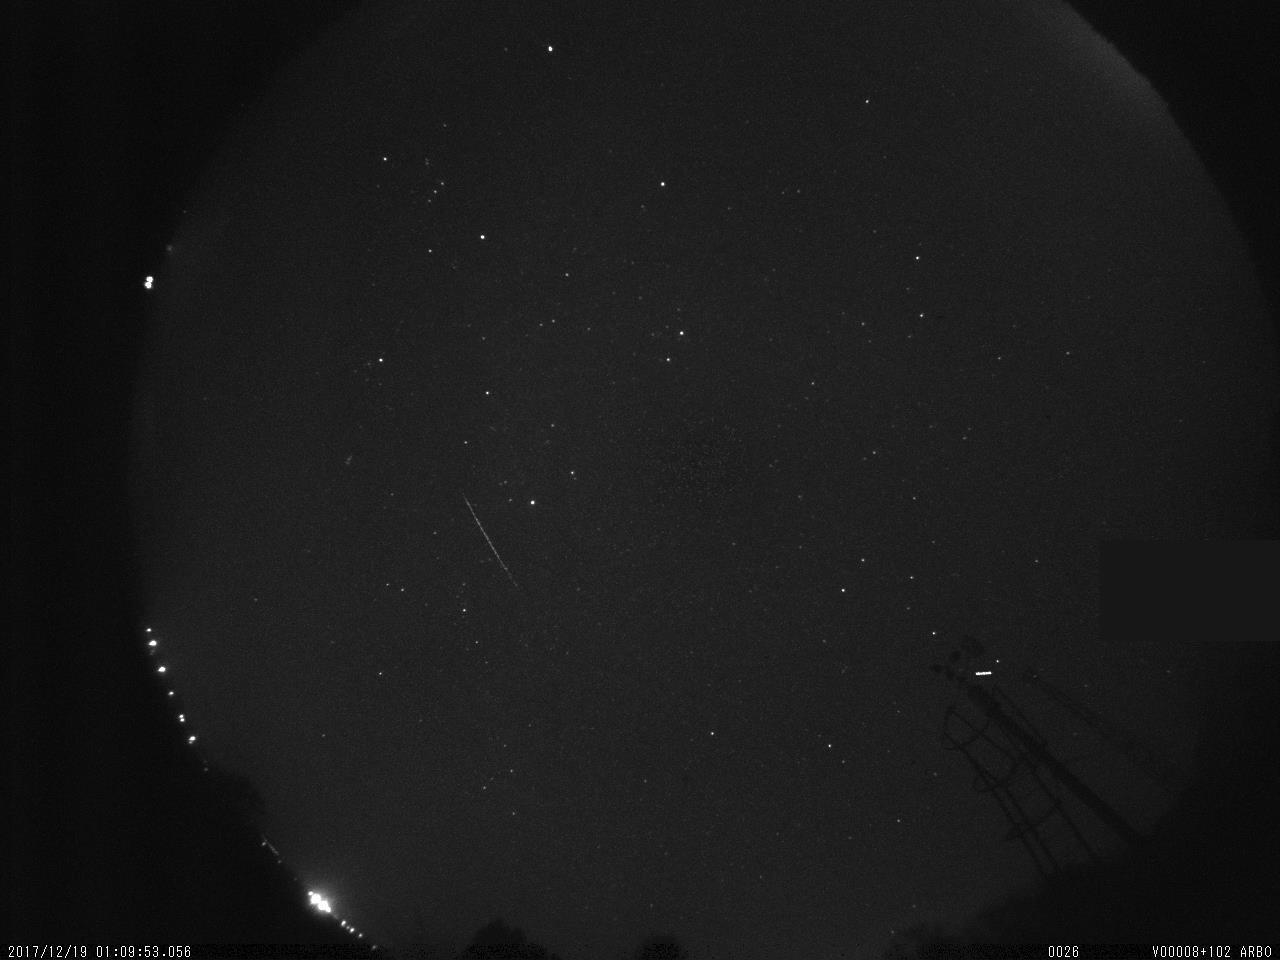meteor: (453, 487, 530, 589)
